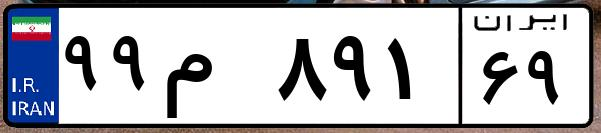1: (385, 28, 445, 110)
6: (475, 38, 525, 113)
8: (270, 28, 330, 110)
9: (330, 28, 385, 110), (57, 26, 110, 100), (525, 38, 570, 115), (110, 28, 158, 98)
م: (158, 20, 270, 120)
